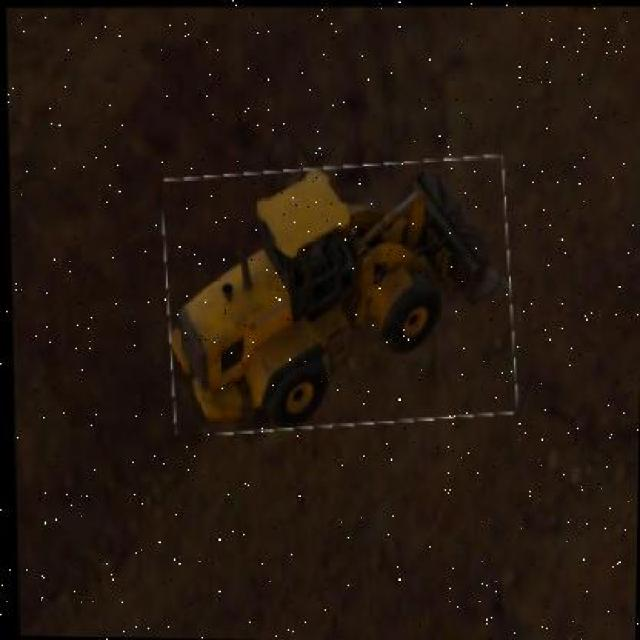buldozerpayloadergrader: (170, 159, 504, 432)
